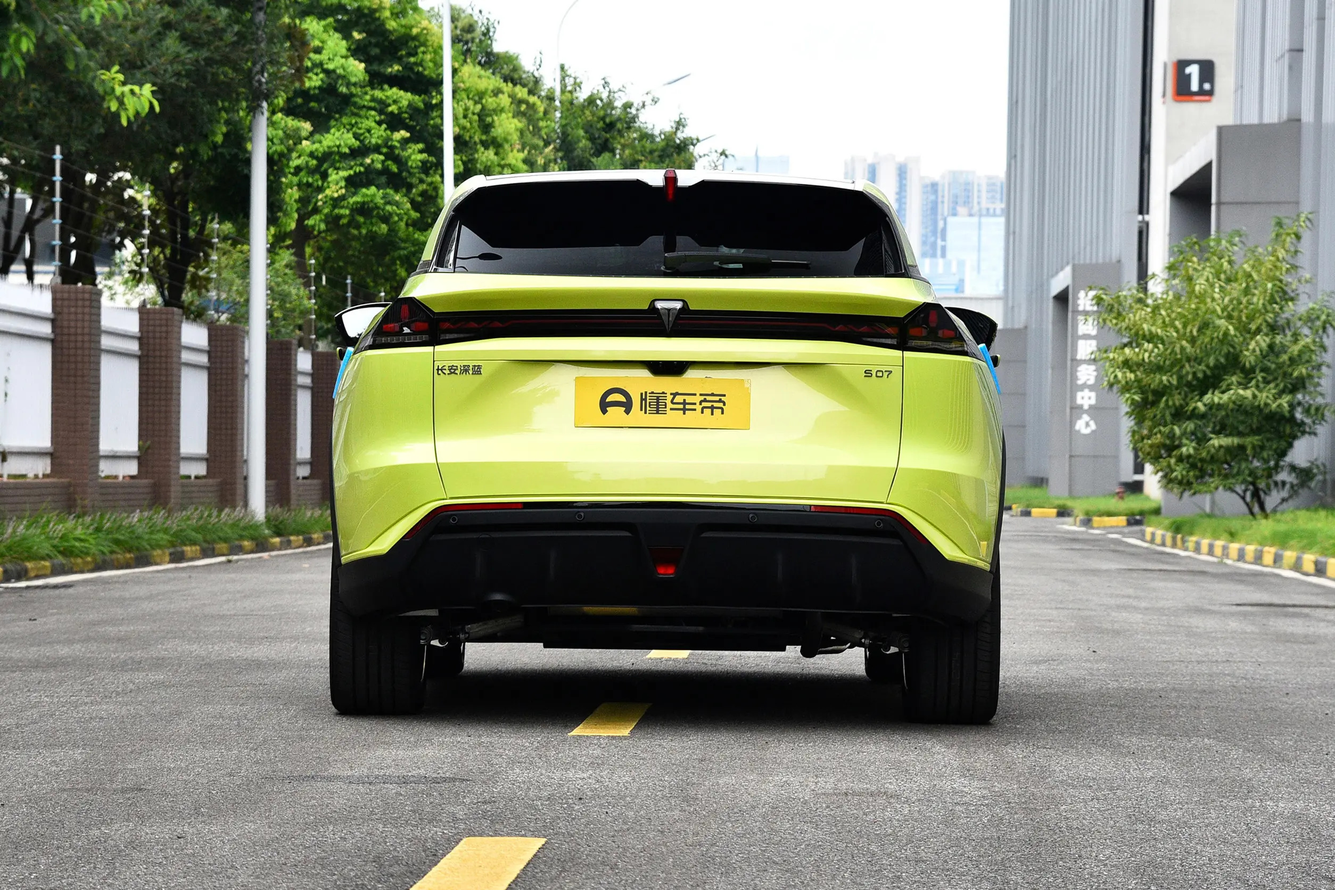Deepal: (657, 303, 680, 331)
